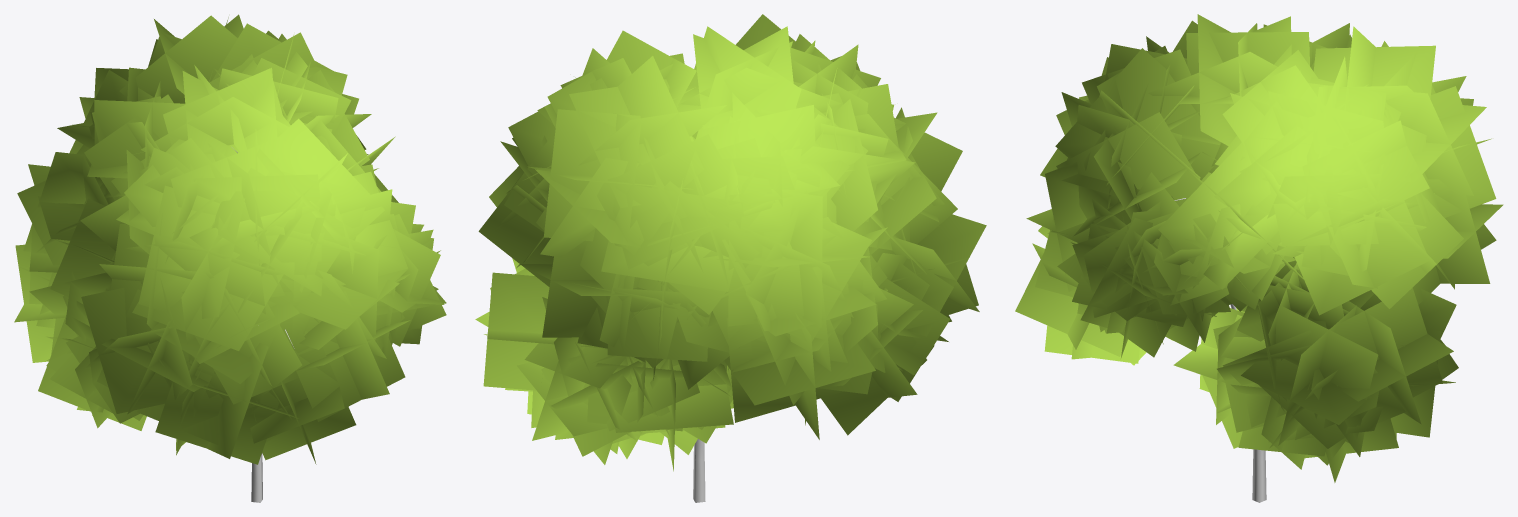
File: tree02.fbx
3 renders of one model, left to right at view 1: azimuth 30°, elevation 25°; view 2: azimuth 150°, elevation 25°; view 3: azimuth 270°, elevation 25°, orthographic. The views are drawn at different scales.
Parts seen in each view (by area): view 1: leaves.053, trunk; view 2: leaves.053, leaves.004, trunk; view 3: leaves.053, leaves.004, trunk.
Part boxes in pixels (box(x1,y1,x2,y2)): leaves.053: box(14, 14, 446, 464); trunk: box(232, 147, 294, 502); leaves.053: box(478, 14, 986, 439); leaves.004: box(475, 258, 733, 471); trunk: box(693, 439, 705, 502); leaves.053: box(1015, 14, 1503, 365); leaves.004: box(1173, 263, 1458, 482); trunk: box(1174, 198, 1266, 502).
Bounding box in the file's own units: 659 × 738 × 691.
